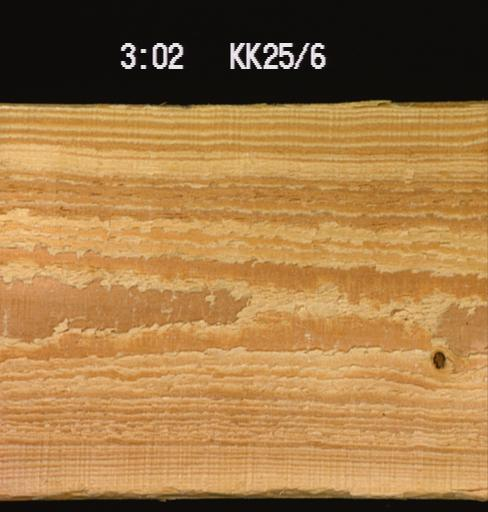dry_knot: (428, 346, 446, 372)
wave: (60, 473, 487, 503)
